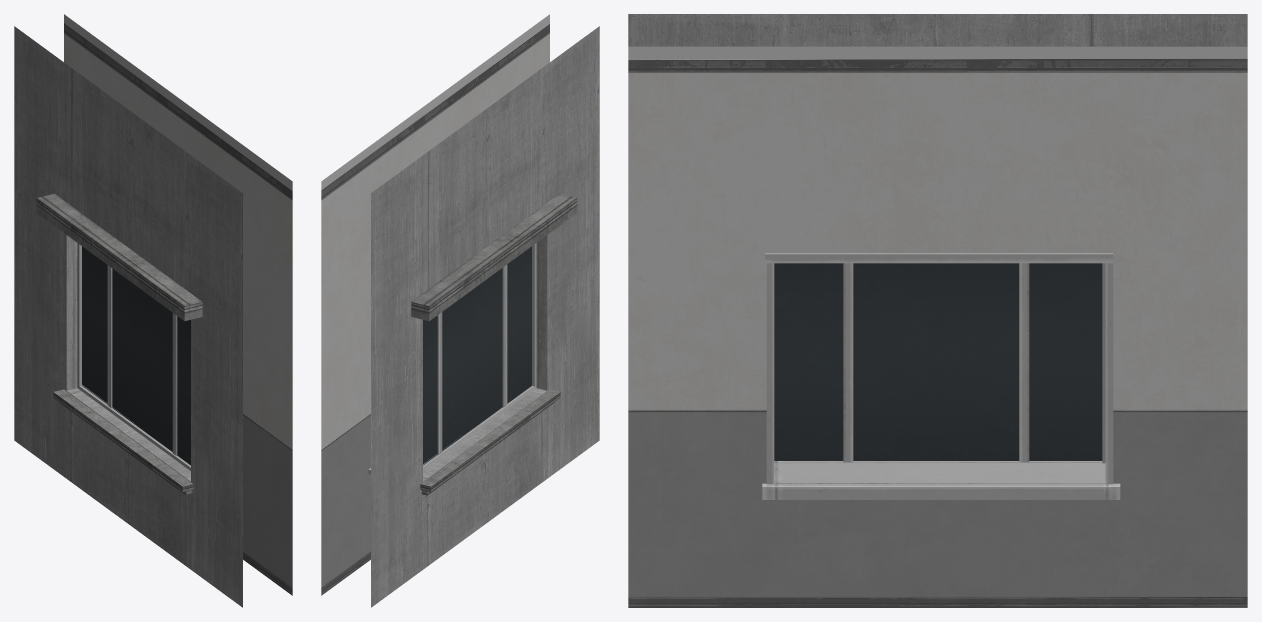
Rendered from HH_Hospital_InteriorShowcase_4m_02.fbx.
3 views of the same model, side by side, from view 1: azimuth 30°, elevation 25°; view 2: azimuth 150°, elevation 25°; view 3: azimuth 270°, elevation 25° (orthographic). The views are drawn at different scales.
Visible parts, largest first — view 1: HH_Hospital_InteriorShowcase_4m_02_LOD0; view 2: HH_Hospital_InteriorShowcase_4m_02_LOD0; view 3: HH_Hospital_InteriorShowcase_4m_02_LOD0.
Part boxes in pixels (x1,y1,x2,y2): HH_Hospital_InteriorShowcase_4m_02_LOD0: (14,14,292,607); HH_Hospital_InteriorShowcase_4m_02_LOD0: (321,14,599,607); HH_Hospital_InteriorShowcase_4m_02_LOD0: (628,14,1247,607).
Size of what is drawn, in the model's own units: 73.67 by 400 by 400.
